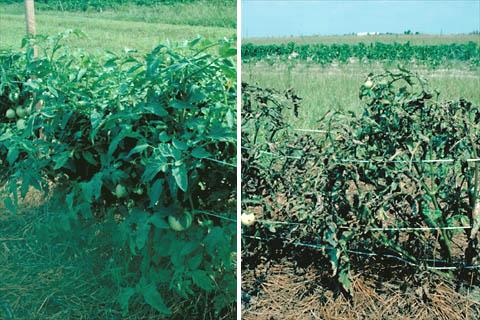Tomato leaf late blight: (170, 161, 193, 197), (132, 219, 156, 253), (106, 123, 127, 160), (144, 96, 167, 122), (83, 177, 103, 204)
